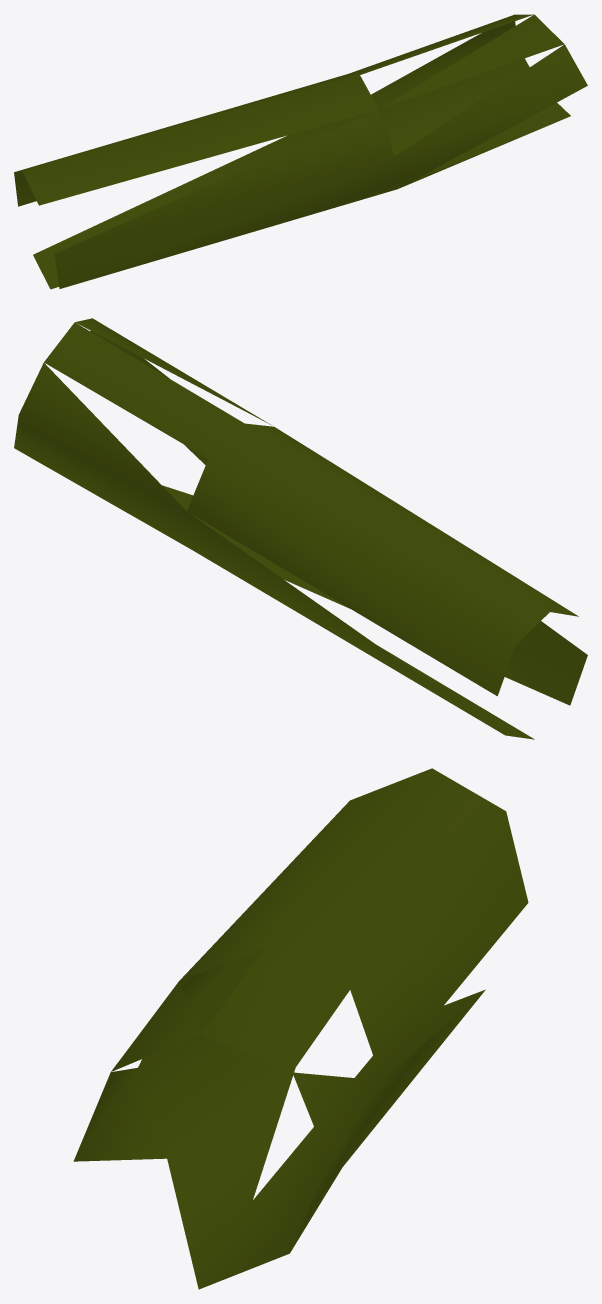
The model's file is planta-004.gltf.
3 views of the same model, one above another, from view 1: azimuth 30°, elevation 25°; view 2: azimuth 150°, elevation 25°; view 3: azimuth 270°, elevation 25° (orthographic). The views are drawn at different scales.
Visible parts, largest first — view 1: Anim_Planta-f.004; view 2: Anim_Planta-f.004; view 3: Anim_Planta-f.004.
Boxes of the visible parts, x1,y1,x2,y2 form: Anim_Planta-f.004: [14, 14, 587, 289]; Anim_Planta-f.004: [14, 318, 587, 739]; Anim_Planta-f.004: [73, 768, 528, 1289].
Bounding box in the file's own units: 3.07 × 1.22 × 1.22.
1 material, 1 textured.
